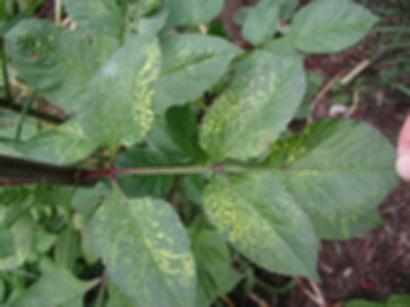Tomato leaf mosaic virus: (200, 170, 323, 284), (91, 186, 200, 304), (200, 53, 309, 164), (80, 28, 166, 163)
